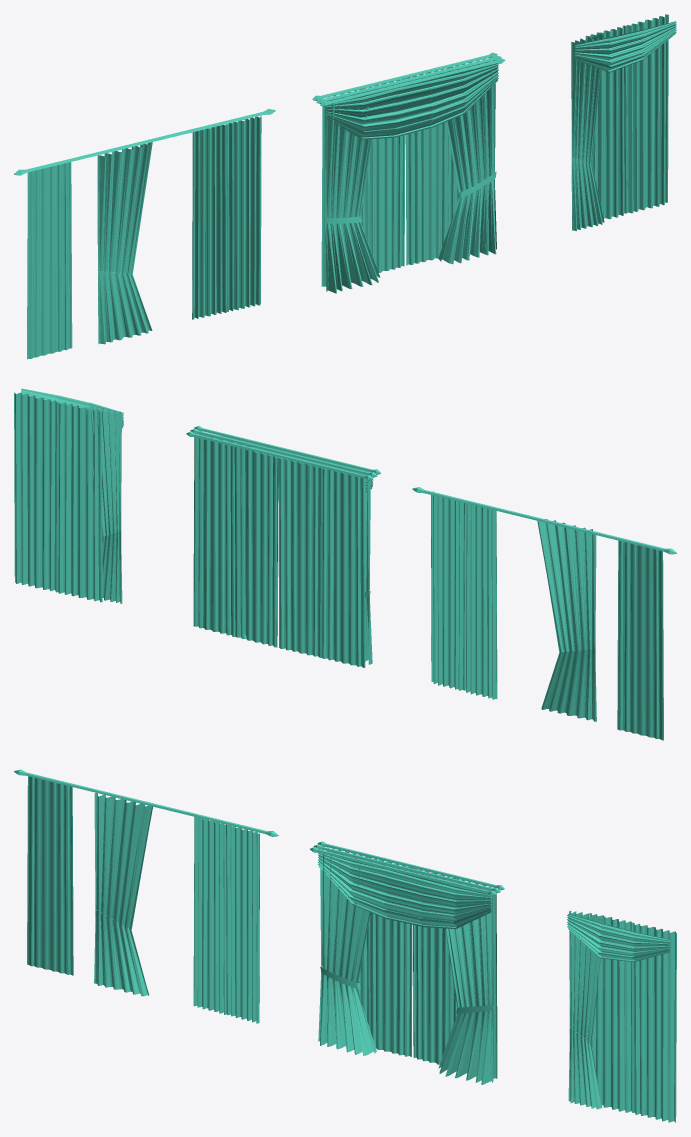
The picture shows the model from 3 angles, top to bottom: view 1: azimuth 30°, elevation 25°; view 2: azimuth 150°, elevation 25°; view 3: azimuth 330°, elevation 25°; orthographic projection.
Parts seen in each view (by area): view 1: skpF811_001; view 2: skpF811_001; view 3: skpF811_001.
Boxes of the visible parts, bbox=[...] form: skpF811_001: bbox=[14, 14, 676, 359]; skpF811_001: bbox=[14, 388, 676, 740]; skpF811_001: bbox=[14, 769, 676, 1122].
Size of the model in its own units: 21363 by 5978 by 717.
